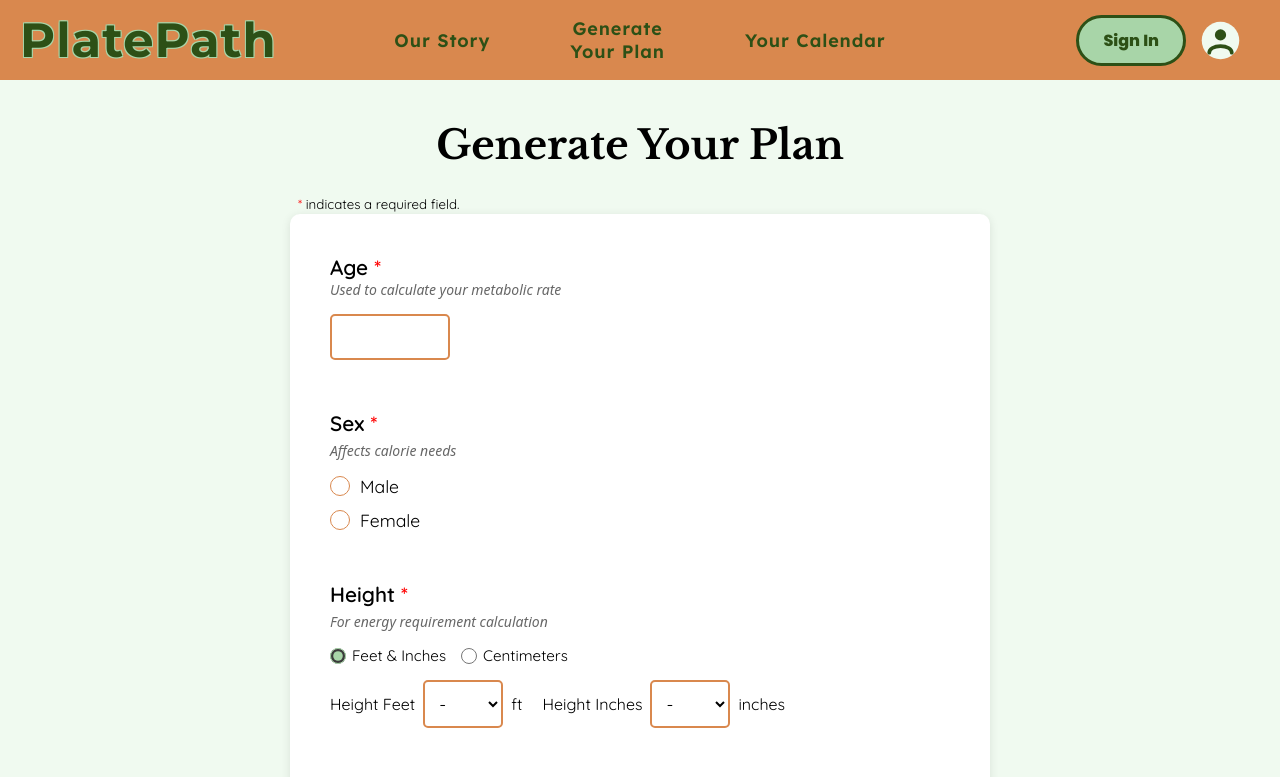
GeneratePlan - Accessibility Tests › Dynamic Content › should show cm input when centimeters is selected
Click the radio button labelled "Centimeters": (469, 656) 461,648 -> 477,664
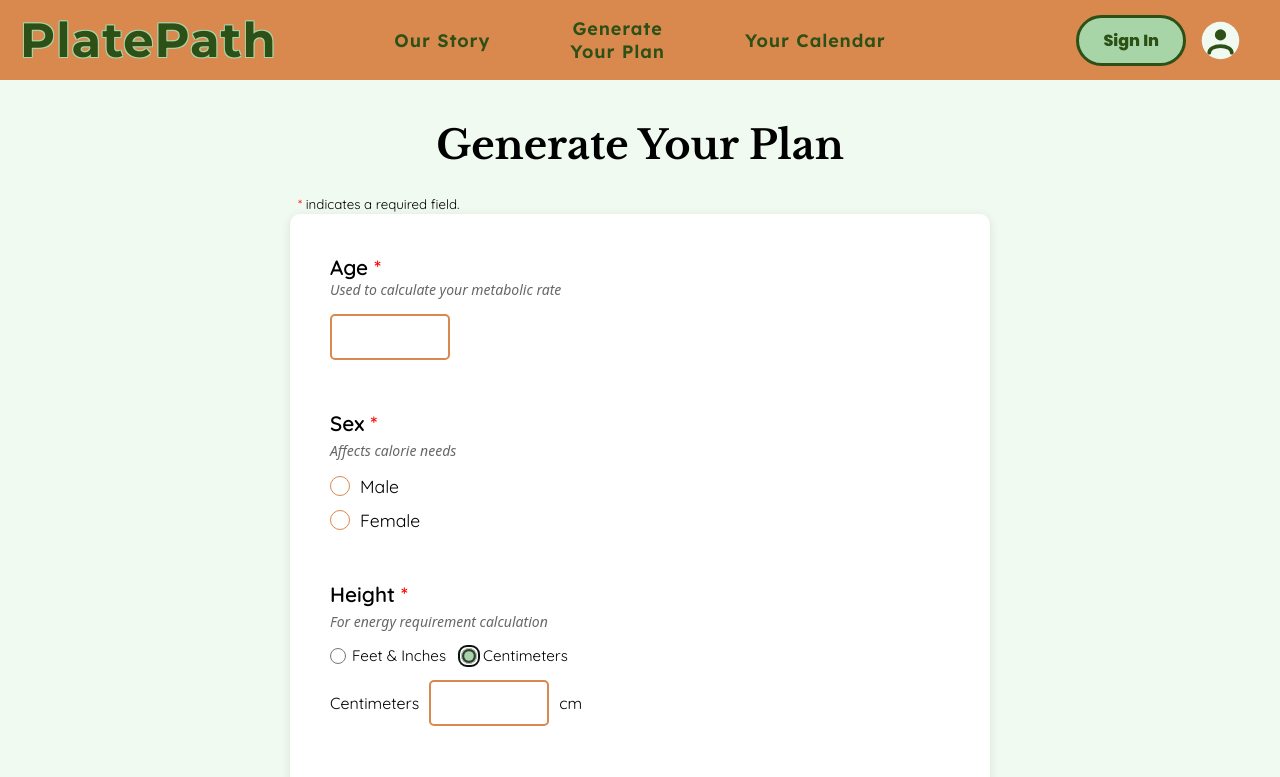
Now the label labelled "Height Inches" is gone
